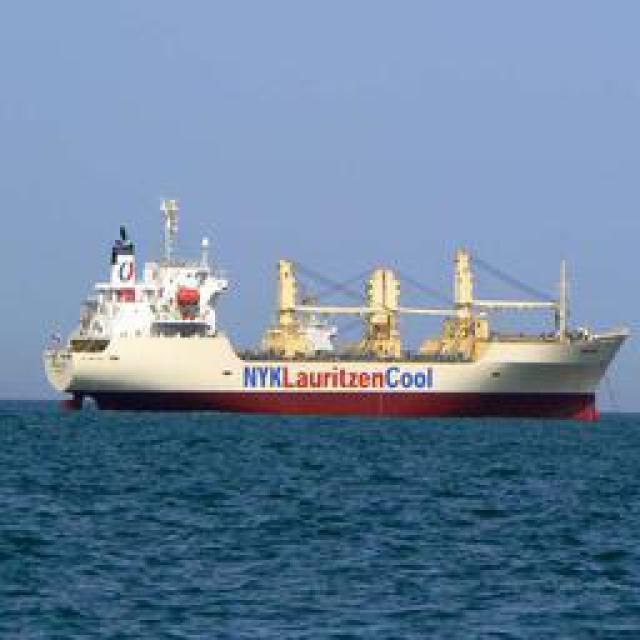Ship: (44, 194, 630, 421)
